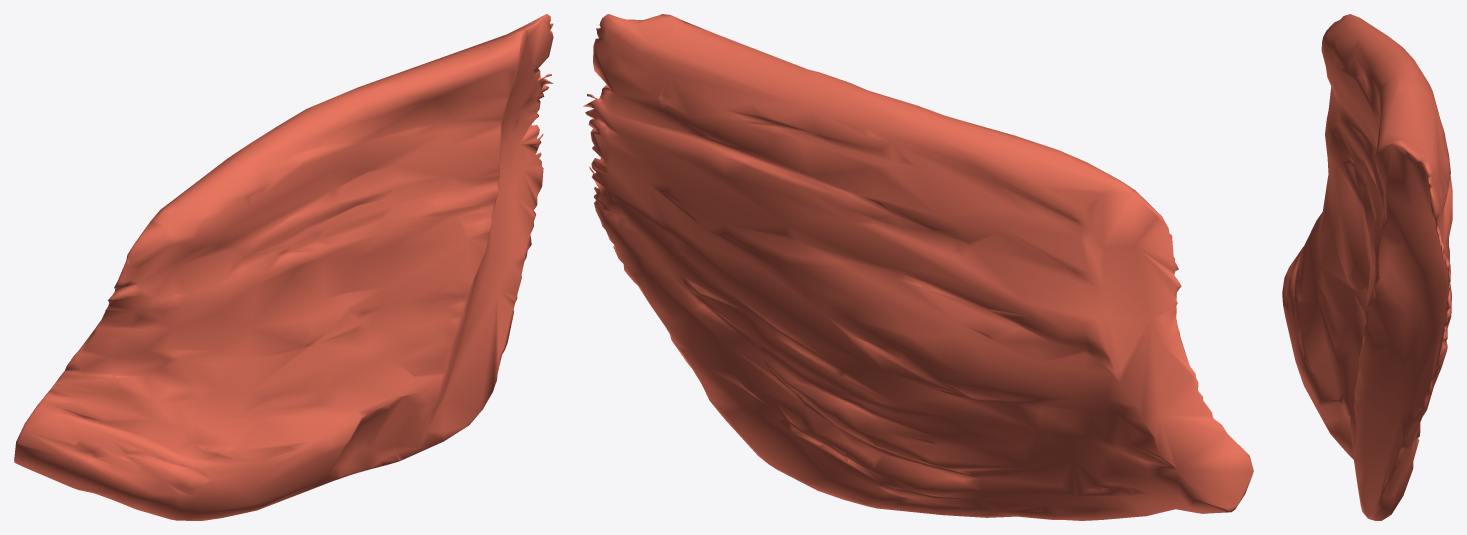
Rendered from quadratus-femoris.glb.
3 renders of one model, left to right at view 1: azimuth 30°, elevation 25°; view 2: azimuth 150°, elevation 25°; view 3: azimuth 270°, elevation 25°, orthographic. The views are drawn at different scales.
Visible parts, largest first — view 1: Quadratus femoris muscle.l; view 2: Quadratus femoris muscle.l; view 3: Quadratus femoris muscle.l.
Boxes of the visible parts, x1=… form: Quadratus femoris muscle.l: x1=14, y1=14, x2=553, y2=520; Quadratus femoris muscle.l: x1=583, y1=14, x2=1253, y2=520; Quadratus femoris muscle.l: x1=1282, y1=14, x2=1452, y2=520.
Size of the model in its own units: 0.0687 by 0.0457 by 0.0161.
